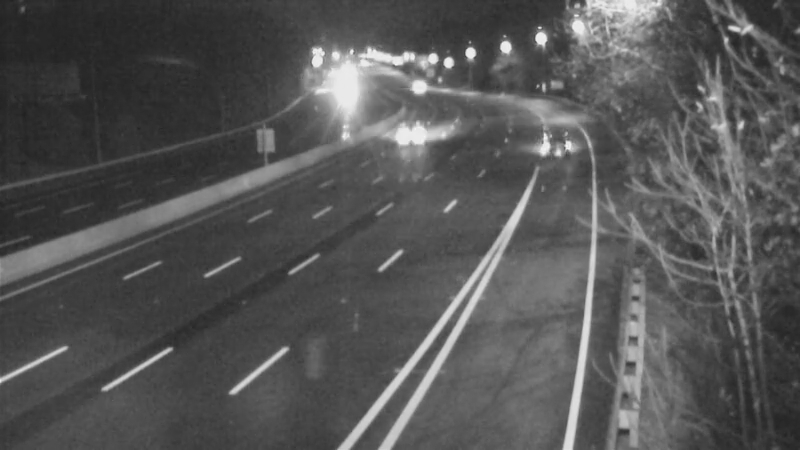vehicle: (396, 61, 446, 111), (534, 119, 584, 169), (391, 106, 441, 156)
